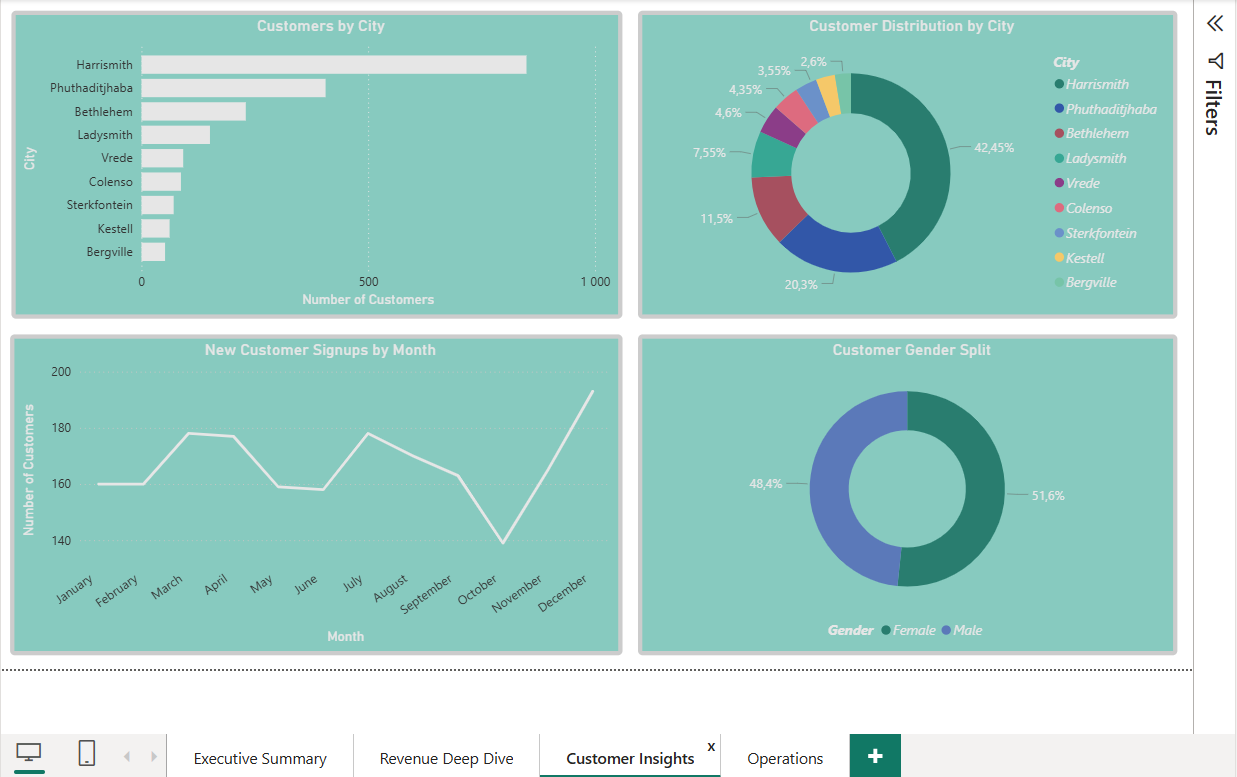

The page's visual inventory and layout, read from the dashboard file:
{"tool":"powerbi","page":{"name":"Customer Insights","canvas":[1280,720],"ordinal":2},"visuals":[{"type":"clusteredBarChart","title":"Customers by City","fields":{"Category":["customers.city"],"Y":["CountNonNull(customers.customer_id)"]},"box":[11.2,12.6,656.2,330.9],"z":0},{"type":"donutChart","title":"Customer Gender Split","fields":{"Category":["customers.gender"],"Y":["CountNonNull(customers.customer_id)"]},"box":[684.1,360.2,579.4,344.8],"z":1000},{"type":"lineChart","title":"New Customer Signups by Month","fields":{"Category":["customers.signup_date.Variation.Date Hierarchy.Year","customers.signup_date.Variation.Date Hierarchy.Quarter","customers.signup_date.Variation.Date Hierarchy.Month","customers.signup_date.Variation.Date Hierarchy.Day"],"Y":["CountNonNull(customers.customer_id)"]},"box":[9.8,360.2,657.5,344.8],"z":2000},{"type":"donutChart","title":"Customer Distribution by City","fields":{"Category":["customers.city"],"Y":["CountNonNull(customers.customer_id)"]},"box":[684.1,12.6,579.4,330.9],"z":3000}]}

Visuals, with their boxes on the page's 1280x720 design canvas (x1, y1, x2, y2). These are canvas units, not pixel positions in the 1237x777 screenshot, which may show the page scaled, cropped or inside an application window:
"Customers by City" clusteredBarChart: 11/13/667/344
"Customer Gender Split" donutChart: 684/360/1264/705
"New Customer Signups by Month" lineChart: 10/360/667/705
"Customer Distribution by City" donutChart: 684/13/1264/344
